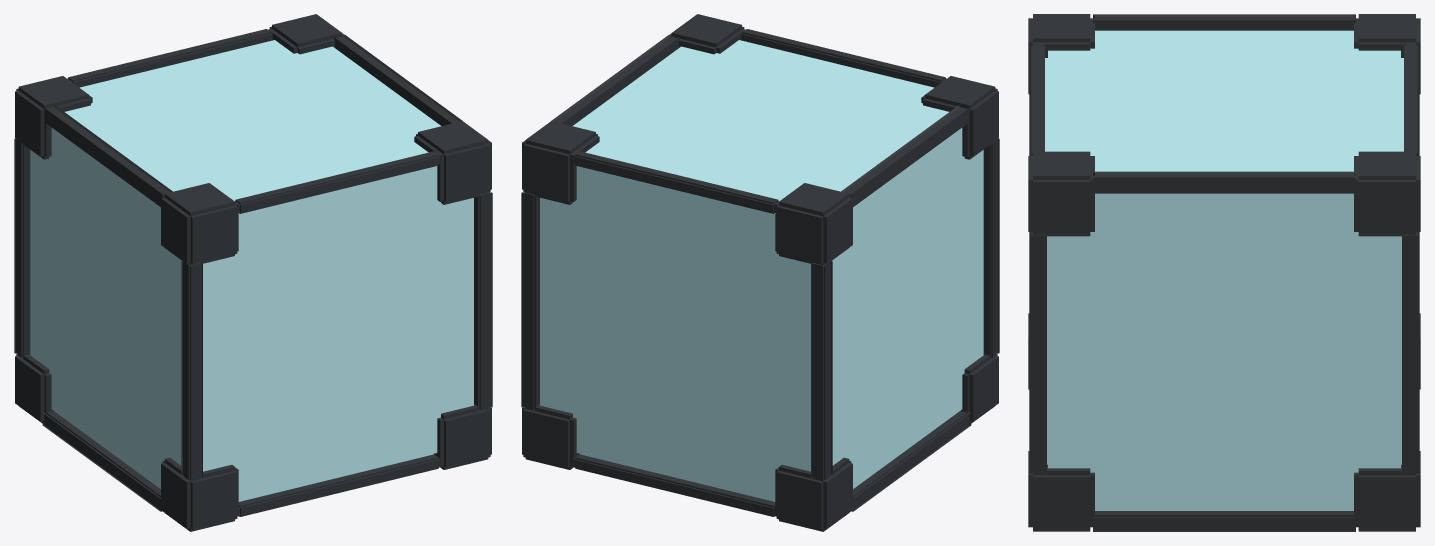
Rendered from block_pyre.glb.
3 renders of one model, left to right at view 1: azimuth 30°, elevation 25°; view 2: azimuth 150°, elevation 25°; view 3: azimuth 270°, elevation 25°, orthographic. The views are drawn at different scales.
Visible parts, largest first — view 1: Pyre_Shell, Pyre_Frame; view 2: Pyre_Shell, Pyre_Frame; view 3: Pyre_Shell, Pyre_Frame.
Boxes of the visible parts, x1,y1,x2,y2 form: Pyre_Shell: (30,40,473,501); Pyre_Frame: (14,14,492,531); Pyre_Shell: (540,40,983,501); Pyre_Frame: (521,14,999,531); Pyre_Shell: (1045,30,1403,510); Pyre_Frame: (1028,14,1420,531).
Size of the model in its own units: 1 by 1 by 1.
